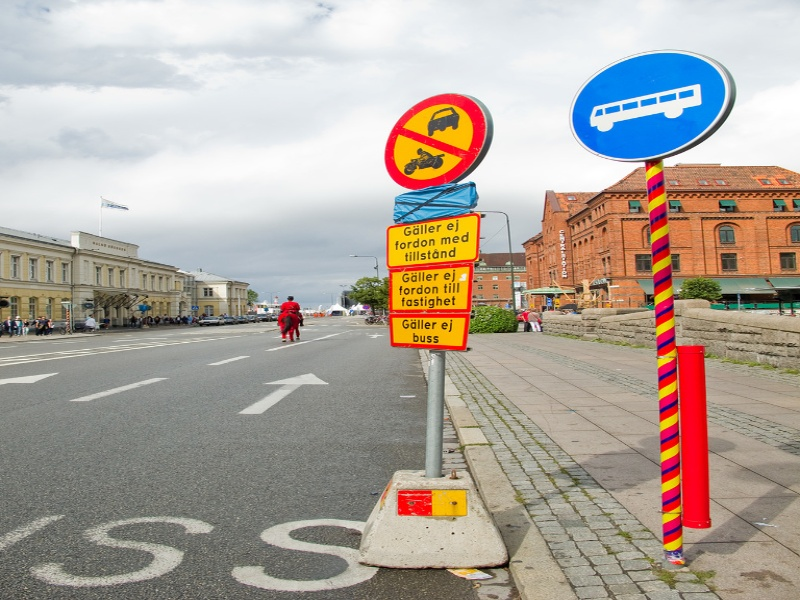bus_stop: (574, 58, 728, 154)
no_car_bike_stop: (383, 93, 480, 174)
